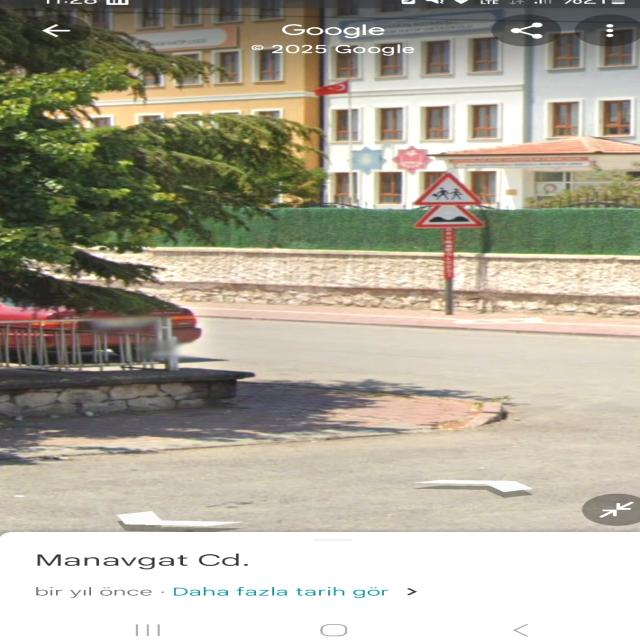okul_gecidi: (414, 172, 484, 205)
